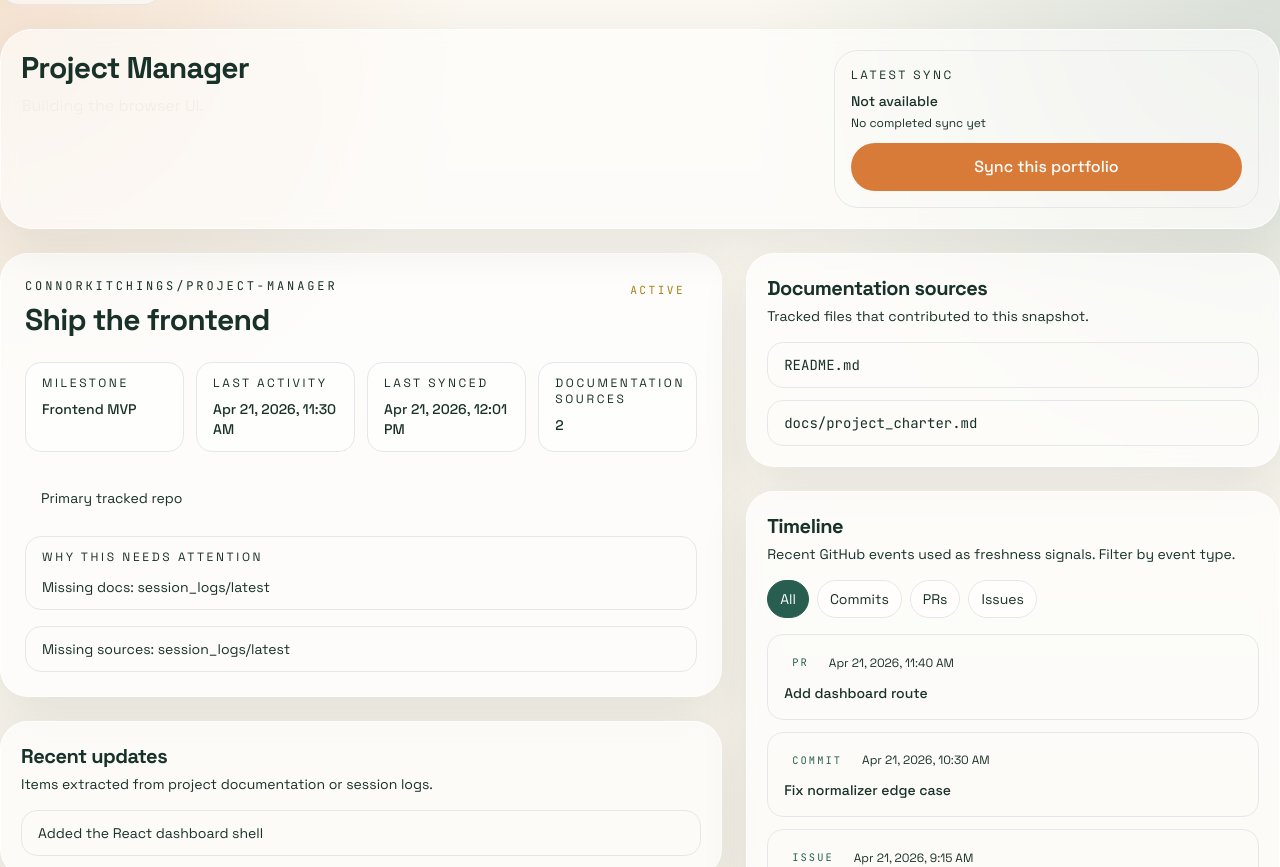
Test: RepoDetailPage › filters timeline events by type
The image size is (1280, 867).
expect the text "Add dashboard route" is shown: met, box [784, 684, 928, 702]
Click "Commits" filter — only commit events visible
Click the button "Commits".
click(859, 599)  # box [817, 580, 902, 618]
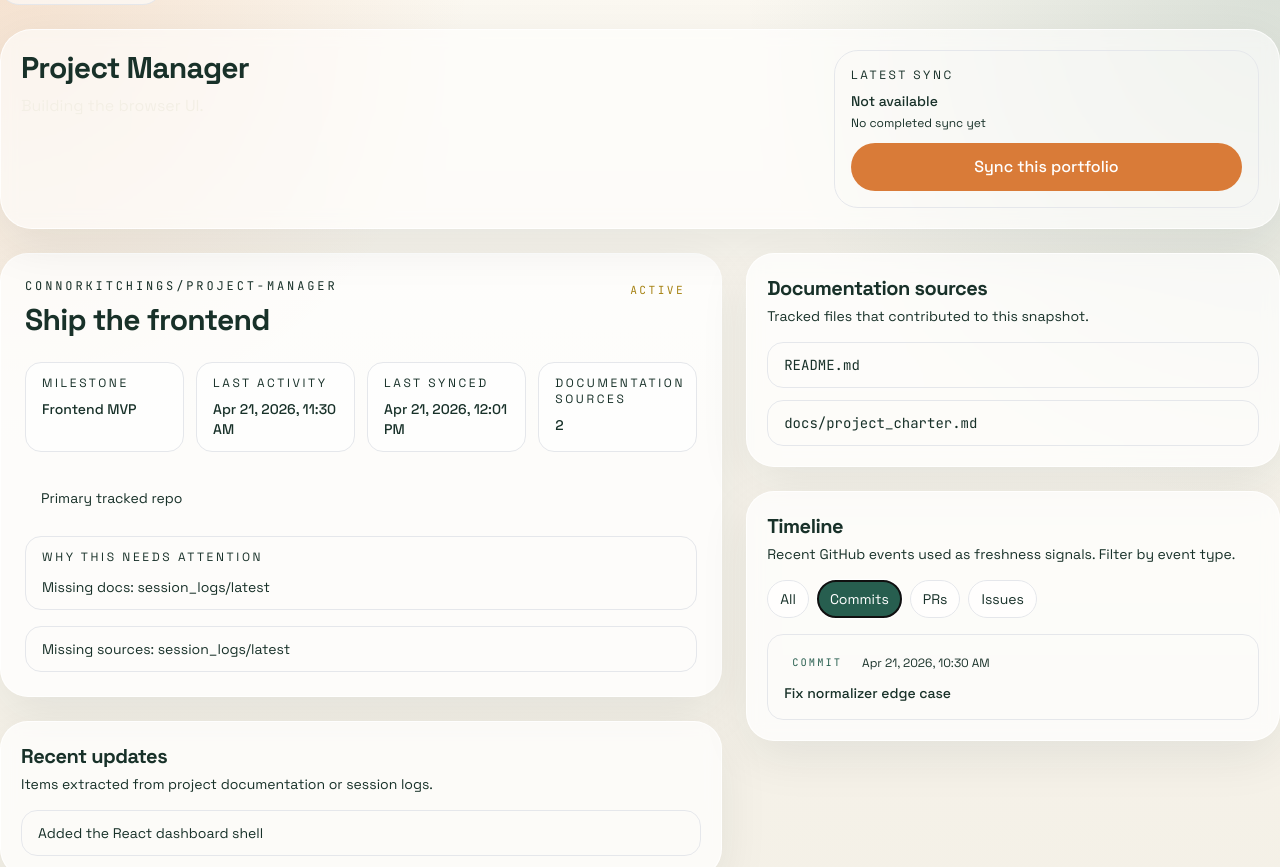
expect the text "Fix normalizer edge case" is shown: met, box [784, 684, 951, 702]
expect the link "Add dashboard route" is gone: met
Click "PRs" filter
Click the button "PRs".
click(935, 599)  # box [910, 580, 960, 618]
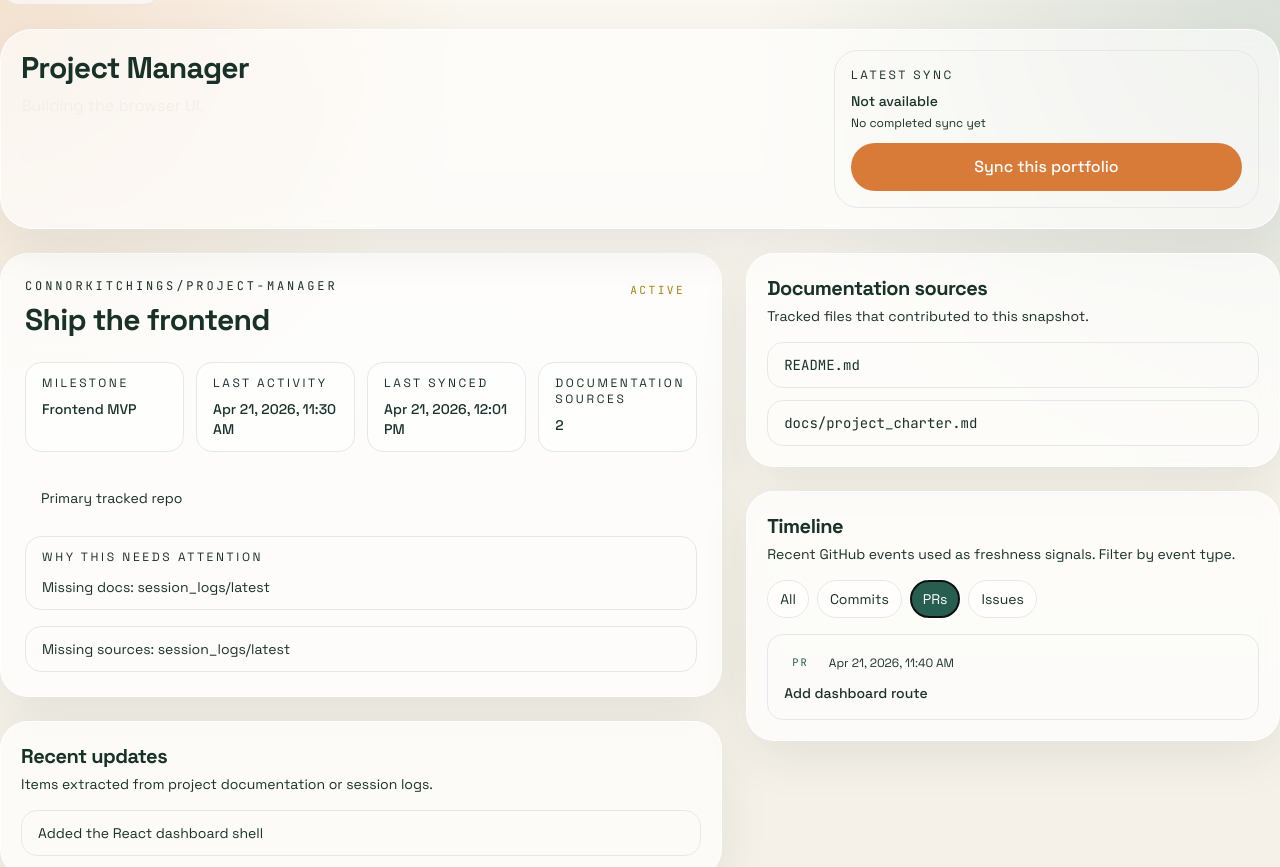
expect the text "Add dashboard route" is shown: met, box [784, 684, 928, 702]
expect the link "Fix normalizer edge case" is gone: met
Click "All" to reset
Click the button "All".
click(788, 599)  # box [767, 580, 809, 618]
(page scrolled)
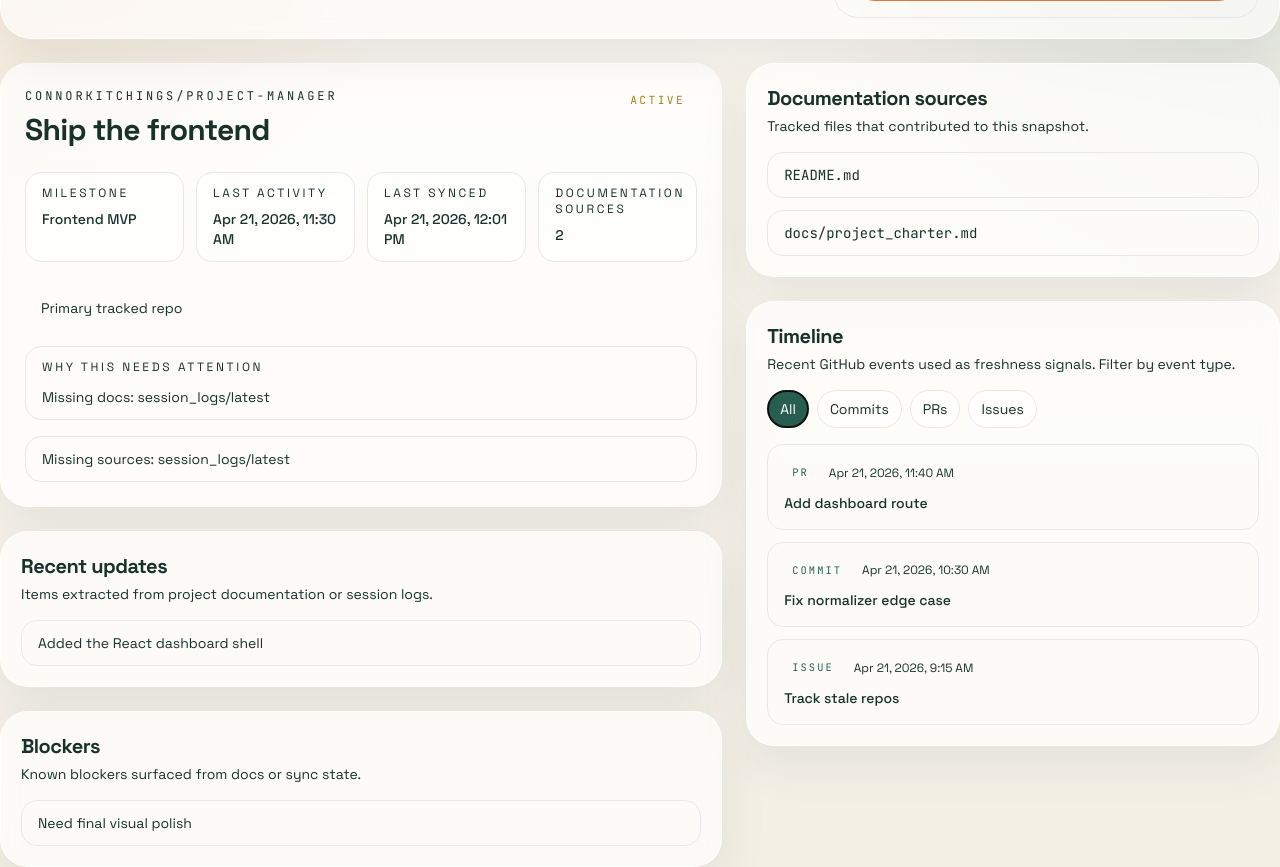
expect the text "Add dashboard route" is shown: met, box [784, 494, 928, 512]
expect the text "Fix normalizer edge case" is shown: met, box [784, 591, 951, 609]
expect the text "Track stale repos" is shown: met, box [784, 689, 899, 707]
